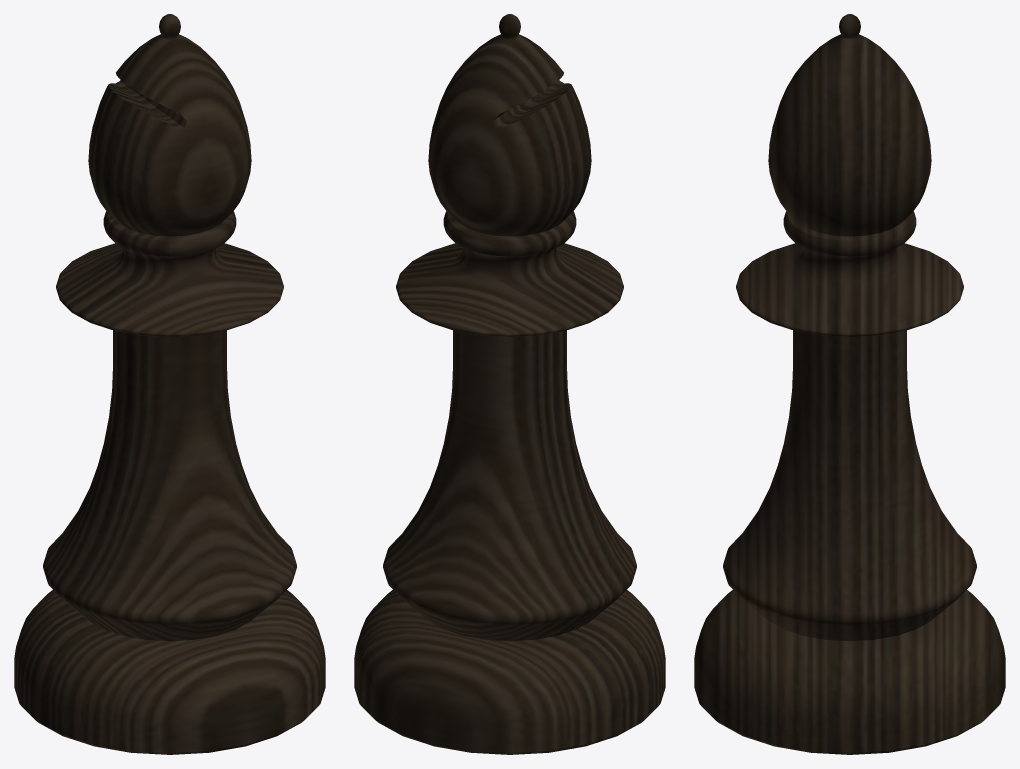
The model's file is black_bishop.gltf.
3 views of the same model, side by side, from view 1: azimuth 30°, elevation 25°; view 2: azimuth 150°, elevation 25°; view 3: azimuth 270°, elevation 25° (orthographic).
Visible parts, largest first — view 1: Material2070; view 2: Material2070; view 3: Material2070.
Boxes of the visible parts, left/top/right/bottom form: Material2070: left=14, top=14, right=325, bottom=754; Material2070: left=354, top=14, right=665, bottom=754; Material2070: left=694, top=14, right=1005, bottom=754.
Size of the model in its own units: 0.1811 by 0.4335 by 0.1811.
1 material, 1 textured.
